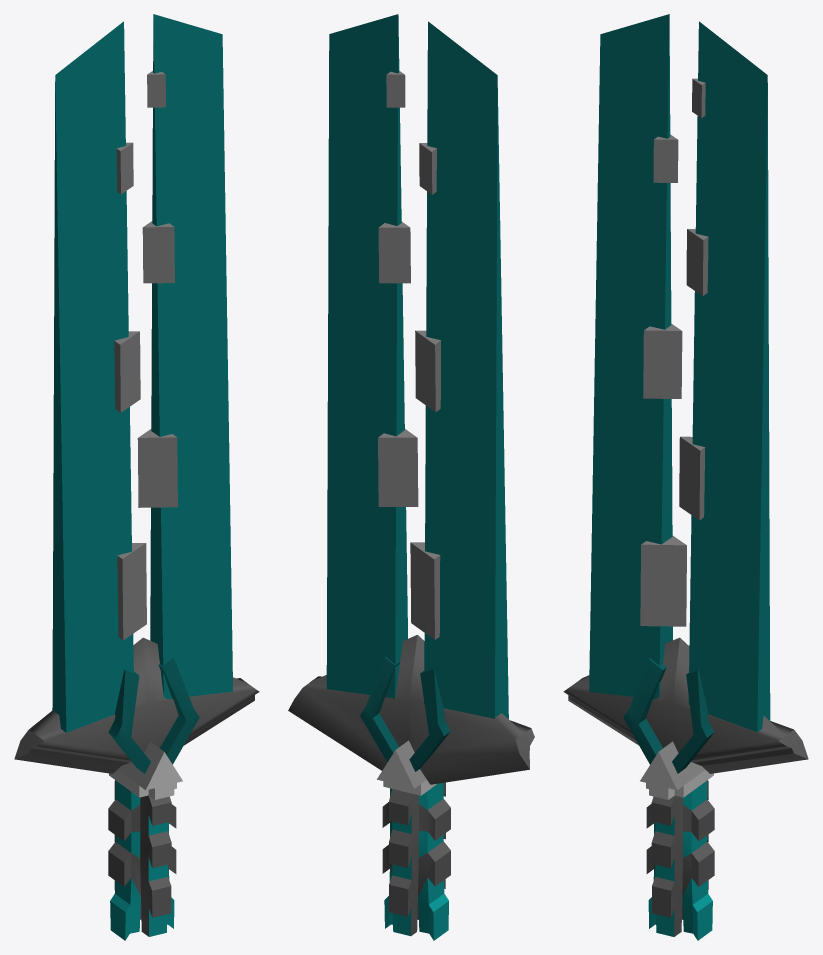
3 renders of one model, left to right at view 1: azimuth 30°, elevation 25°; view 2: azimuth 150°, elevation 25°; view 3: azimuth 330°, elevation 25°, orthographic.
Visible parts, largest first — view 1: pPrism4 (×6); view 2: pPrism4 (×6); view 3: pPrism4 (×6).
Boxes of the visible parts, box(x1,y1,x2,y2) form: pPrism4 (×6): box(14, 14, 259, 940); pPrism4 (×6): box(288, 14, 534, 940); pPrism4 (×6): box(563, 14, 808, 940).
Bounding box in the file's own units: 0.5538 × 2 × 0.1728.
